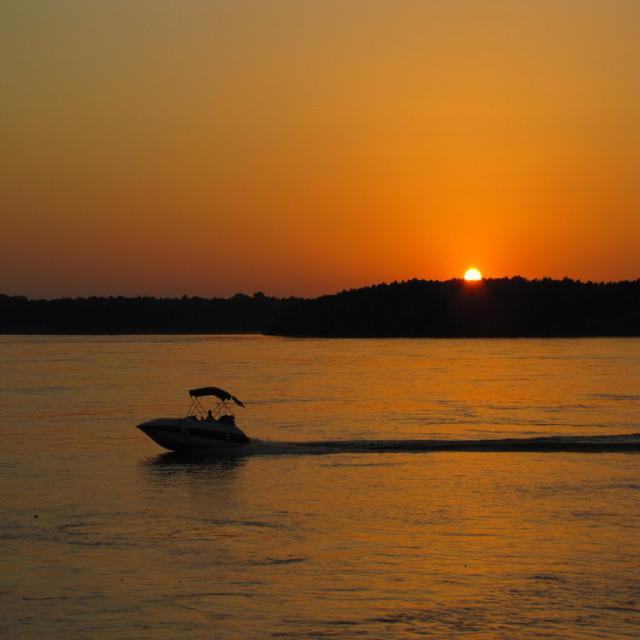Boat: (132, 385, 281, 465)
